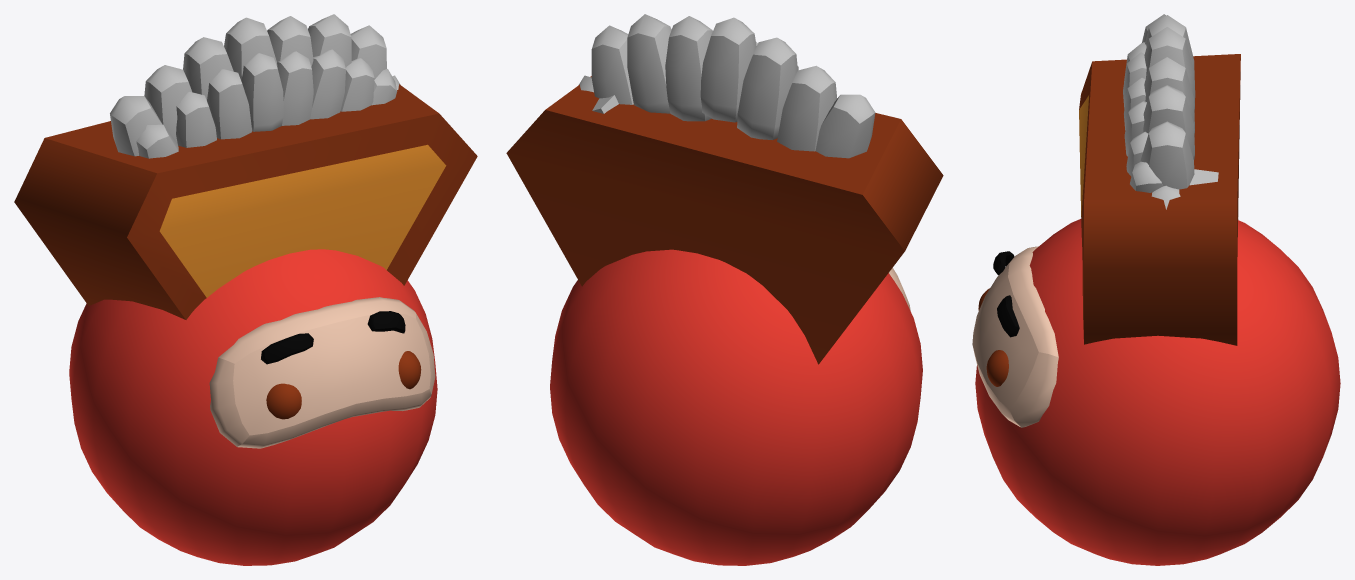
The model's file is bolitas7.2.fbx.
3 views of the same model, side by side, from view 1: azimuth 30°, elevation 25°; view 2: azimuth 150°, elevation 25°; view 3: azimuth 270°, elevation 25° (orthographic). The views are drawn at different scales.
Parts seen in each view (by area): view 1: pasted__pSphere16, pasted__pCube13, pasted__pCube14, pasted__pasted__pasted__pasted__pasted__pasted__pasted__a2c., pasted__pasted__pasted__pasted__pasted__pasted__pasted__pCu., pasted__pasted__pasted__pasted__pasted__pasted__pasted__565., pasted__pasted__pasted__pasted__pasted__pasted__pasted__048b, pasted__pasted__pasted__pasted__pasted__pCube13, pasted__pasted__pasted__pasted__pCube8.001, pasted__pasted__pasted__pasted__pasted__pasted__pCube11, pasted__pasted__pasted__pasted__pasted__pasted__pCube8.006, pasted__pasted__pasted__pasted__pasted__pasted__pasted__pCub (+10 smaller); view 2: pasted__pSphere16, pasted__pCube13, pasted__pasted__pasted__pasted__pasted__pasted__pCube11, pasted__pasted__pasted__pasted__pasted__pasted__pasted__pCub, pasted__pasted__pasted__pasted__pasted__pasted__pasted__d67c, pasted__pasted__pasted__pasted__pasted__pasted__pasted__6f63, pasted__pasted__pasted__pasted__pasted__pCube13, pasted__pasted__pasted__pasted__pCube8.001, pasted__pasted__pasted__pasted__pasted__pasted__pasted__3265; view 3: pasted__pSphere16, pasted__pCube13, pasted__pCube14, pasted__pasted__pasted__pasted__pasted__pasted__pasted__3265, pasted__pasted__pasted__pasted__pasted__pasted__pasted__6f63, pasted__pasted__pasted__pasted__pasted__pasted__pasted__pCub, pasted__pasted__pasted__pasted__pasted__pasted__pasted__d67c, pasted__pasted__pasted__pasted__pasted__pasted__pasted__607a, pasted__pasted__pasted__pasted__pasted__pasted__pasted__048b, pasted__pasted__pSphere17, pasted__pasted__pasted__pasted__pasted__pasted__pCube11, pasted__pasted__pasted__pasted__pasted__pasted__pasted__a2c. (+3 smaller).
Boxes of the visible parts, box(x1,y1,x2,y2) form: pasted__pSphere16: box(69, 249, 437, 565); pasted__pCube13: box(14, 84, 477, 319); pasted__pCube14: box(209, 297, 435, 448); pasted__pasted__pasted__pasted__pasted__pasted__pasted__a2c.: box(241, 53, 283, 131); pasted__pasted__pasted__pasted__pasted__pasted__pasted__pCu.: box(207, 69, 251, 139); pasted__pasted__pasted__pasted__pasted__pasted__pasted__565.: box(277, 51, 313, 125); pasted__pasted__pasted__pasted__pasted__pasted__pasted__048b: box(310, 49, 345, 119); pasted__pasted__pasted__pasted__pasted__pCube13: box(144, 65, 191, 143); pasted__pasted__pasted__pasted__pCube8.001: box(110, 96, 162, 156); pasted__pasted__pasted__pasted__pasted__pasted__pCube11: box(183, 37, 233, 100); pasted__pasted__pasted__pasted__pasted__pasted__pCube8.006: box(176, 92, 216, 147); pasted__pasted__pasted__pasted__pasted__pasted__pasted__pCub: box(224, 17, 277, 80); pasted__pSphere16: box(550, 249, 922, 565); pasted__pCube13: box(506, 76, 943, 364); pasted__pasted__pasted__pasted__pasted__pasted__pCube11: box(737, 37, 797, 139); pasted__pasted__pasted__pasted__pasted__pasted__pasted__pCub: box(700, 17, 756, 122); pasted__pasted__pasted__pasted__pasted__pasted__pasted__d67c: box(665, 16, 712, 121); pasted__pasted__pasted__pasted__pasted__pasted__pasted__6f63: box(627, 14, 671, 113); pasted__pasted__pasted__pasted__pasted__pCube13: box(777, 65, 837, 151); pasted__pasted__pasted__pasted__pCube8.001: box(815, 94, 875, 158); pasted__pasted__pasted__pasted__pasted__pasted__pasted__3265: box(591, 25, 633, 104); pasted__pSphere16: box(975, 219, 1340, 565); pasted__pCube13: box(1079, 54, 1240, 345); pasted__pCube14: box(972, 246, 1058, 427); pasted__pasted__pasted__pasted__pasted__pasted__pasted__3265: box(1140, 121, 1194, 189); pasted__pasted__pasted__pasted__pasted__pasted__pasted__6f63: box(1143, 85, 1194, 159); pasted__pasted__pasted__pasted__pasted__pasted__pasted__pCub: box(1144, 27, 1194, 112); pasted__pasted__pasted__pasted__pasted__pasted__pasted__d67c: box(1144, 57, 1194, 136); pasted__pasted__pasted__pasted__pasted__pasted__pasted__607a: box(1130, 161, 1162, 192); pasted__pasted__pasted__pasted__pasted__pasted__pasted__048b: box(1124, 101, 1146, 156); pasted__pasted__pSphere17: box(986, 350, 1008, 386); pasted__pasted__pasted__pasted__pasted__pasted__pCube11: box(1145, 15, 1195, 97); pasted__pasted__pasted__pasted__pasted__pasted__pasted__a2c.: box(1123, 52, 1146, 108).
Bounding box in the file's own units: 243 × 315 × 202.
